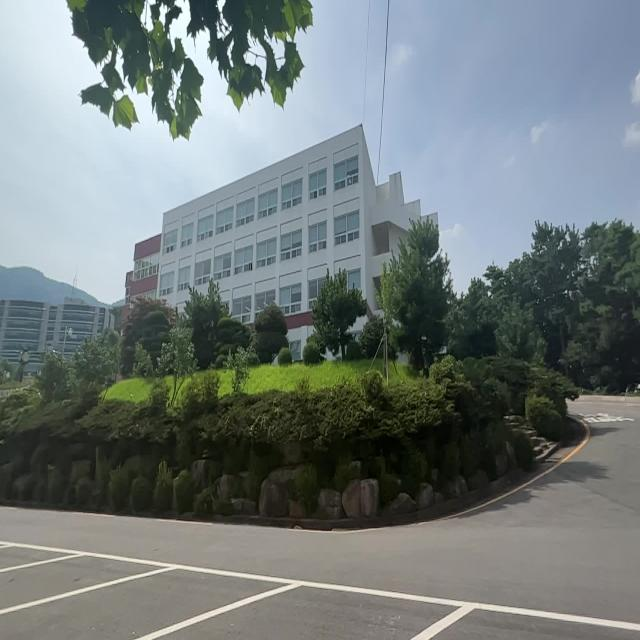building: (105, 152, 381, 300)
